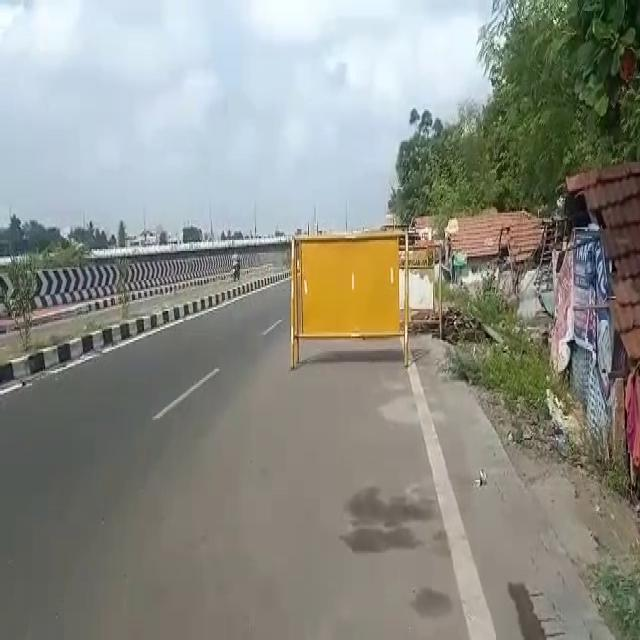fallen_object: (262, 213, 452, 380)
